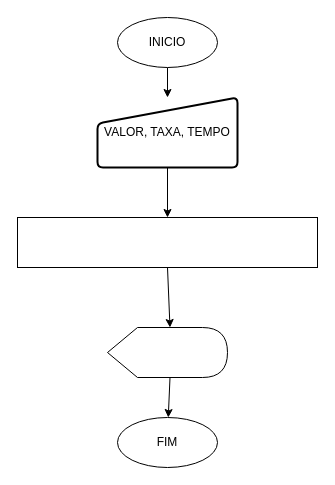
Image size: 335x485. Some labels were removed from this diagram. The centre of each missing label's shape, as x and y in pixels:
PRESTACAO: point (167, 352)
PRESTACAO<- VALOR + (VALOR * (TAXA/100)*TEMPO): point (167, 242)
